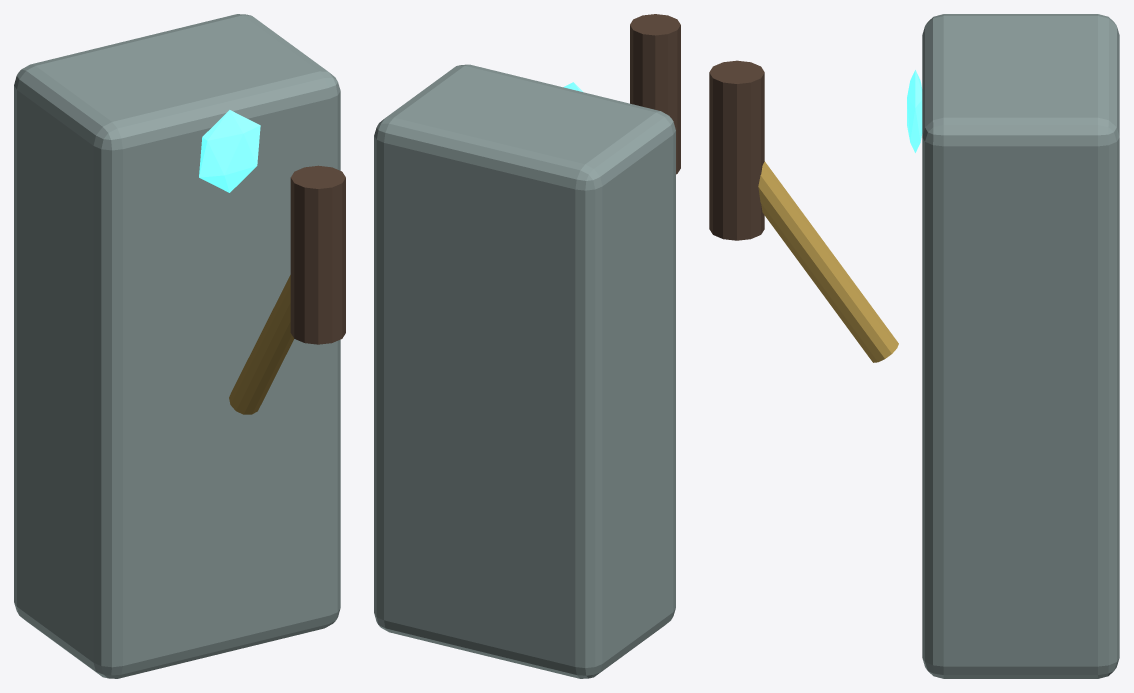
Rendered from lever.glb.
3 views of the same model, side by side, from view 1: azimuth 30°, elevation 25°; view 2: azimuth 150°, elevation 25°; view 3: azimuth 270°, elevation 25° (orthographic). The views are drawn at different scales.
Parts seen in each view (by area): view 1: Lever_Plinth, Lever_Handle, Lever_Arm, Lever_Glyph; view 2: Lever_Plinth, Lever_Handle; view 3: Lever_Plinth, Lever_Handle, Lever_Arm, Lever_Glyph.
Part boxes in pixels (x1,y1,x2,y2): Lever_Plinth: [14, 14, 340, 678]; Lever_Handle: [290, 165, 345, 344]; Lever_Arm: [229, 275, 294, 414]; Lever_Glyph: [199, 110, 260, 192]; Lever_Plinth: [374, 64, 675, 678]; Lever_Handle: [630, 14, 680, 174]; Lever_Plinth: [922, 14, 1119, 678]; Lever_Handle: [709, 60, 764, 240]; Lever_Arm: [758, 161, 898, 362]; Lever_Glyph: [907, 70, 922, 152].
Size of the model in its own units: 0.46 by 1 by 0.665.
